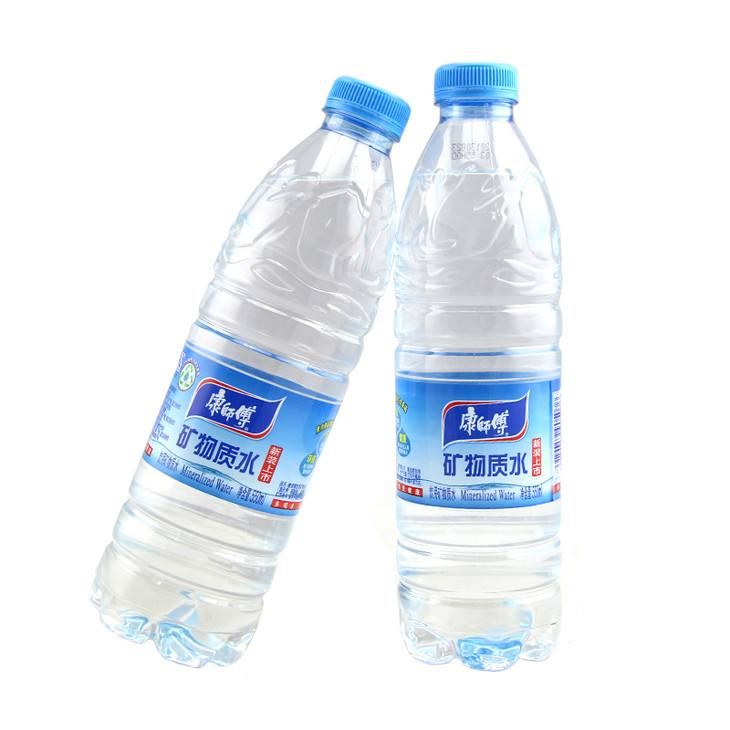amwater: (77, 46, 406, 672), (387, 42, 581, 697)
